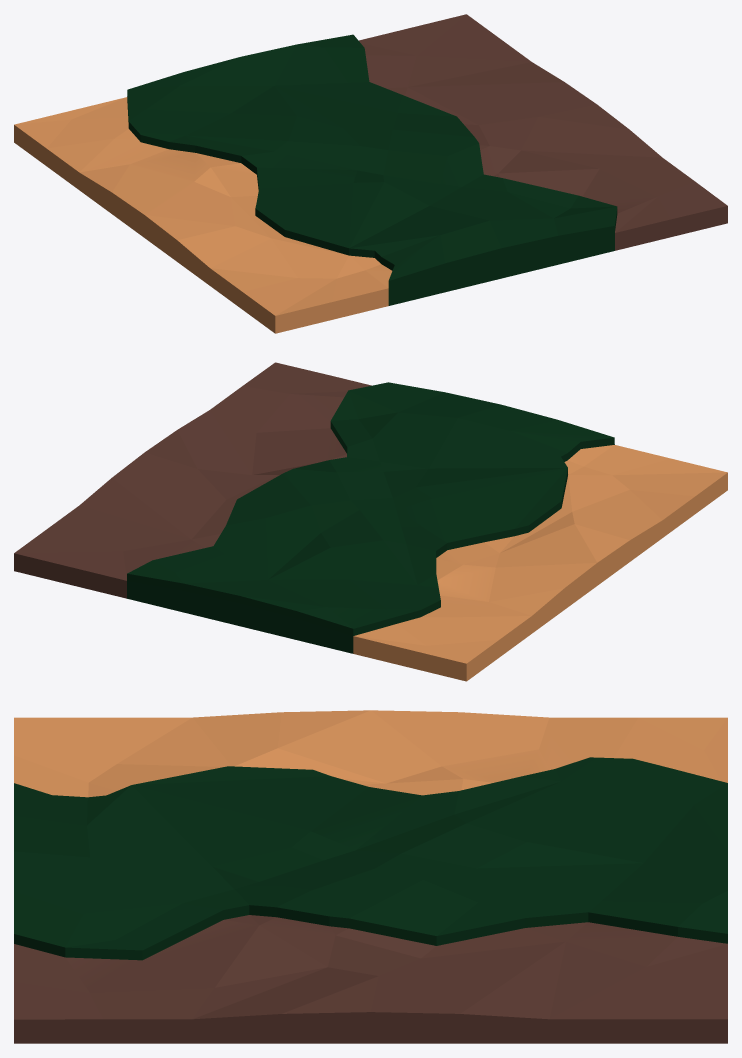
File: mud_green_road.FBX
3 renders of one model, top to bottom at view 1: azimuth 30°, elevation 25°; view 2: azimuth 150°, elevation 25°; view 3: azimuth 270°, elevation 25°, orthographic. The views are drawn at different scales.
Visible parts, largest first — view 1: Mud_green_road; view 2: Mud_green_road; view 3: Mud_green_road.
Boxes of the visible parts, x1=… form: Mud_green_road: x1=14, y1=14, x2=727, y2=333; Mud_green_road: x1=14, y1=362, x2=727, y2=681; Mud_green_road: x1=14, y1=710, x2=727, y2=1043.
Size of the model in its own units: 1.5 by 0.1067 by 1.5.
1 material, 1 textured.
